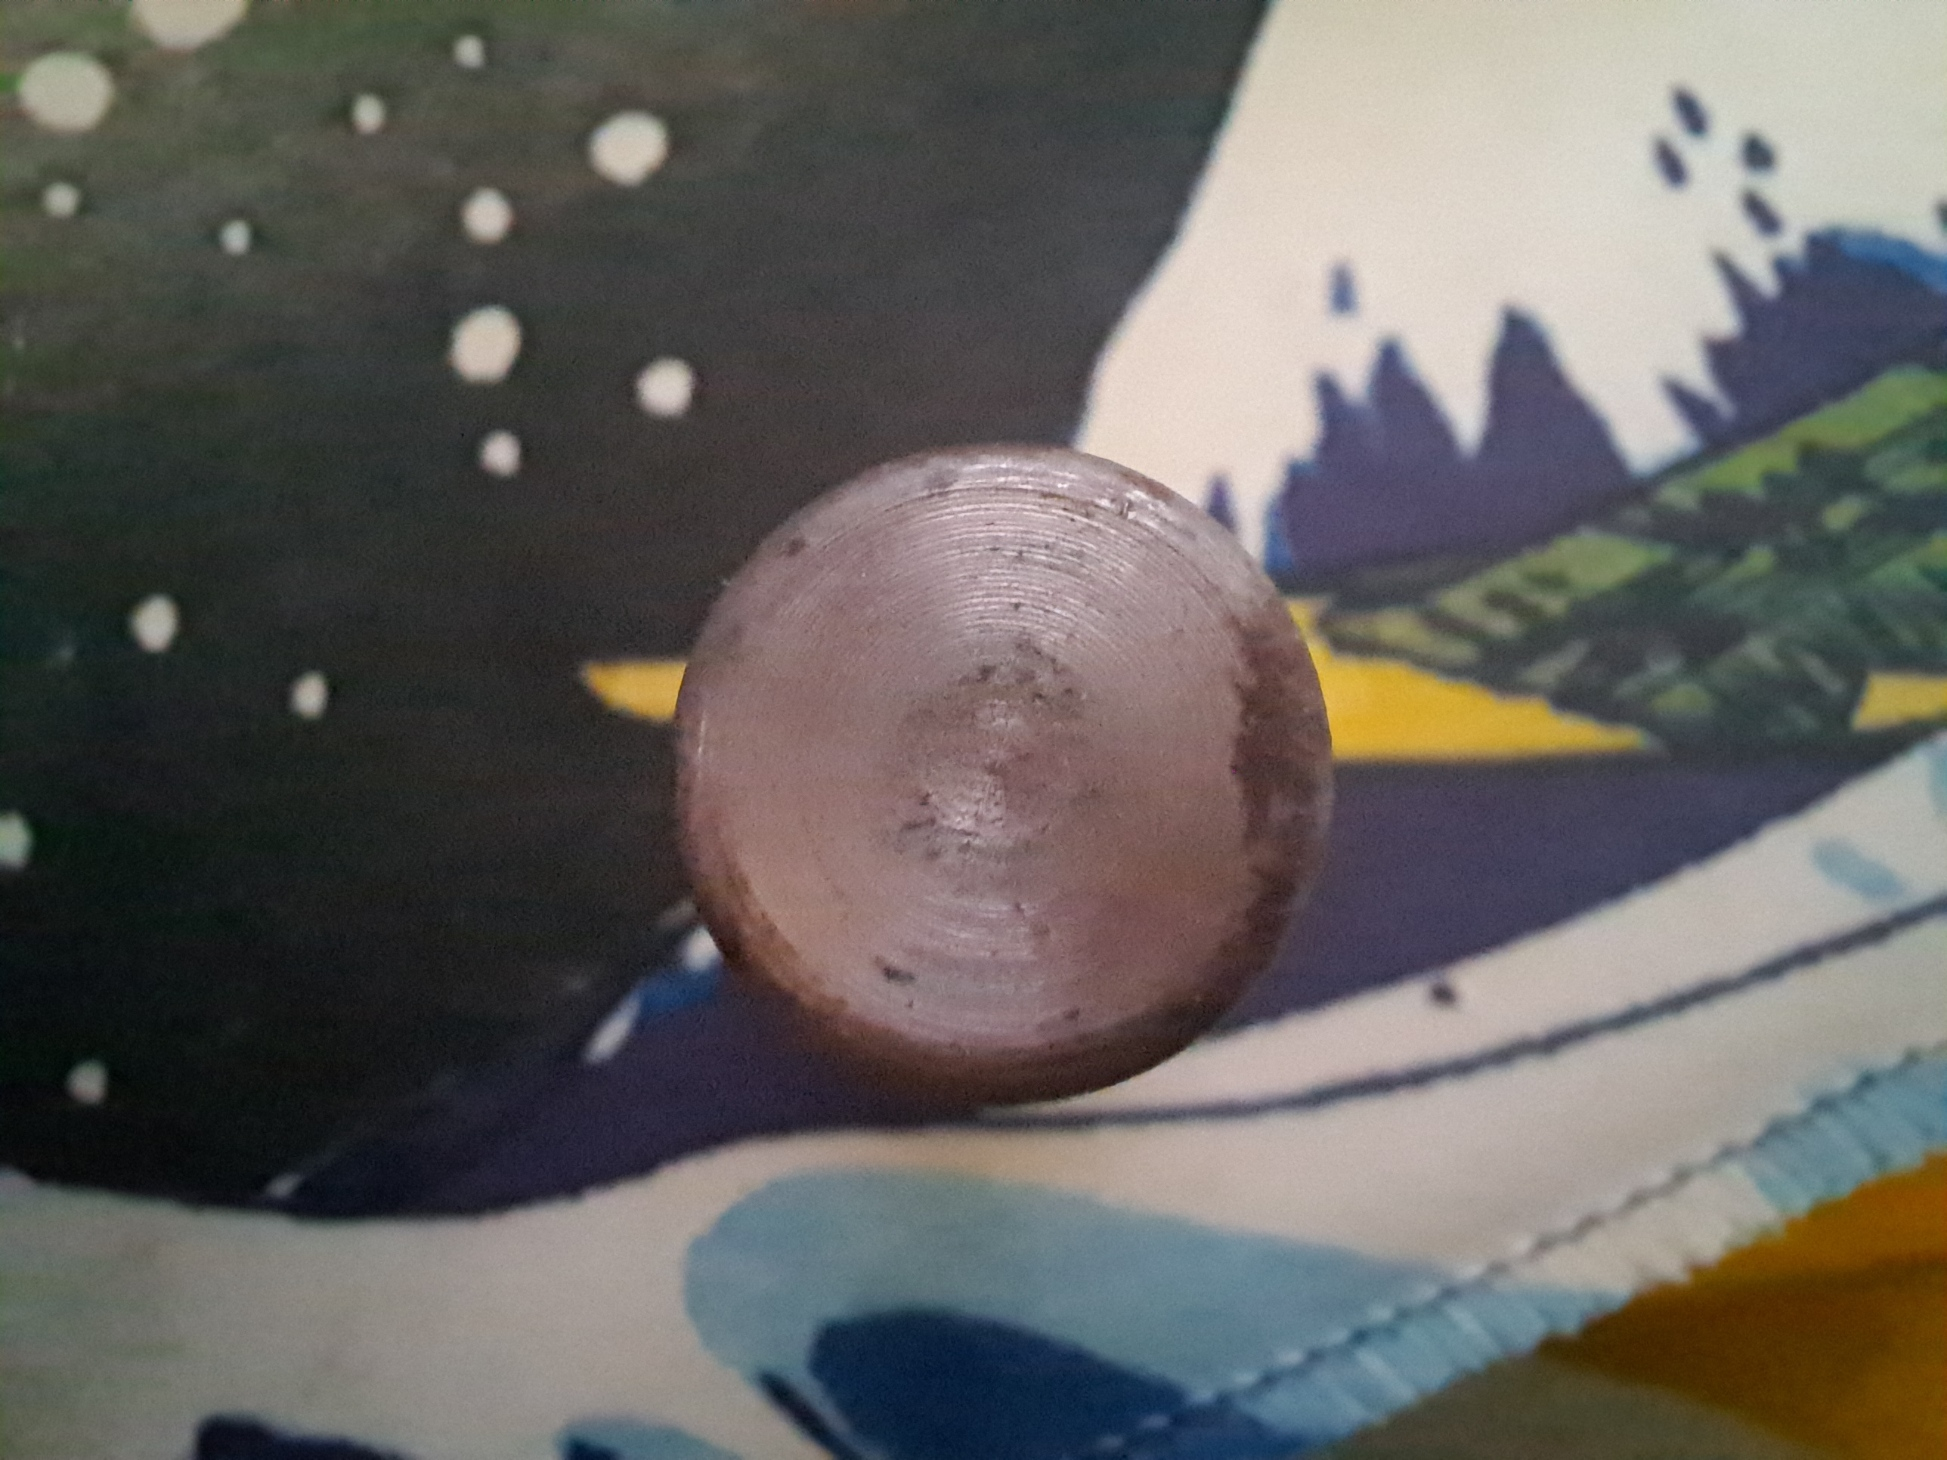плансон: (671, 442, 1335, 1113)
